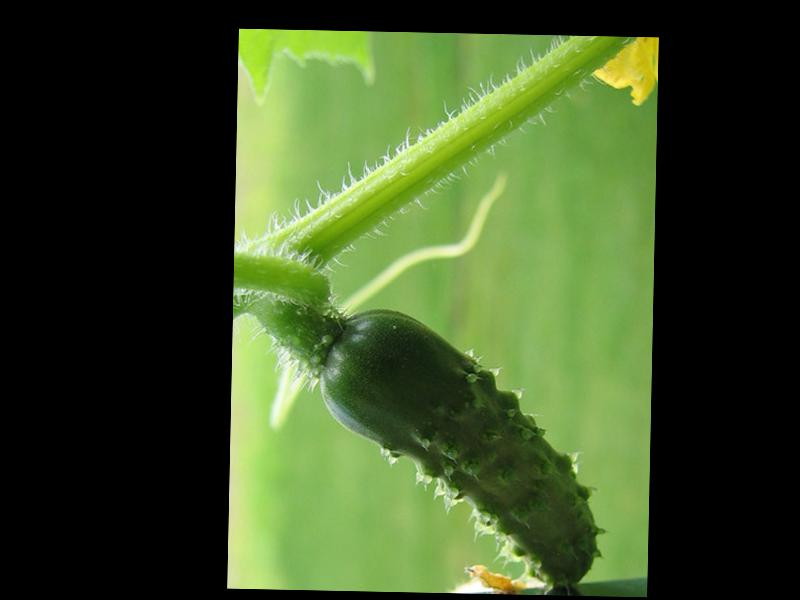Cucumber: (318, 303, 605, 587)
